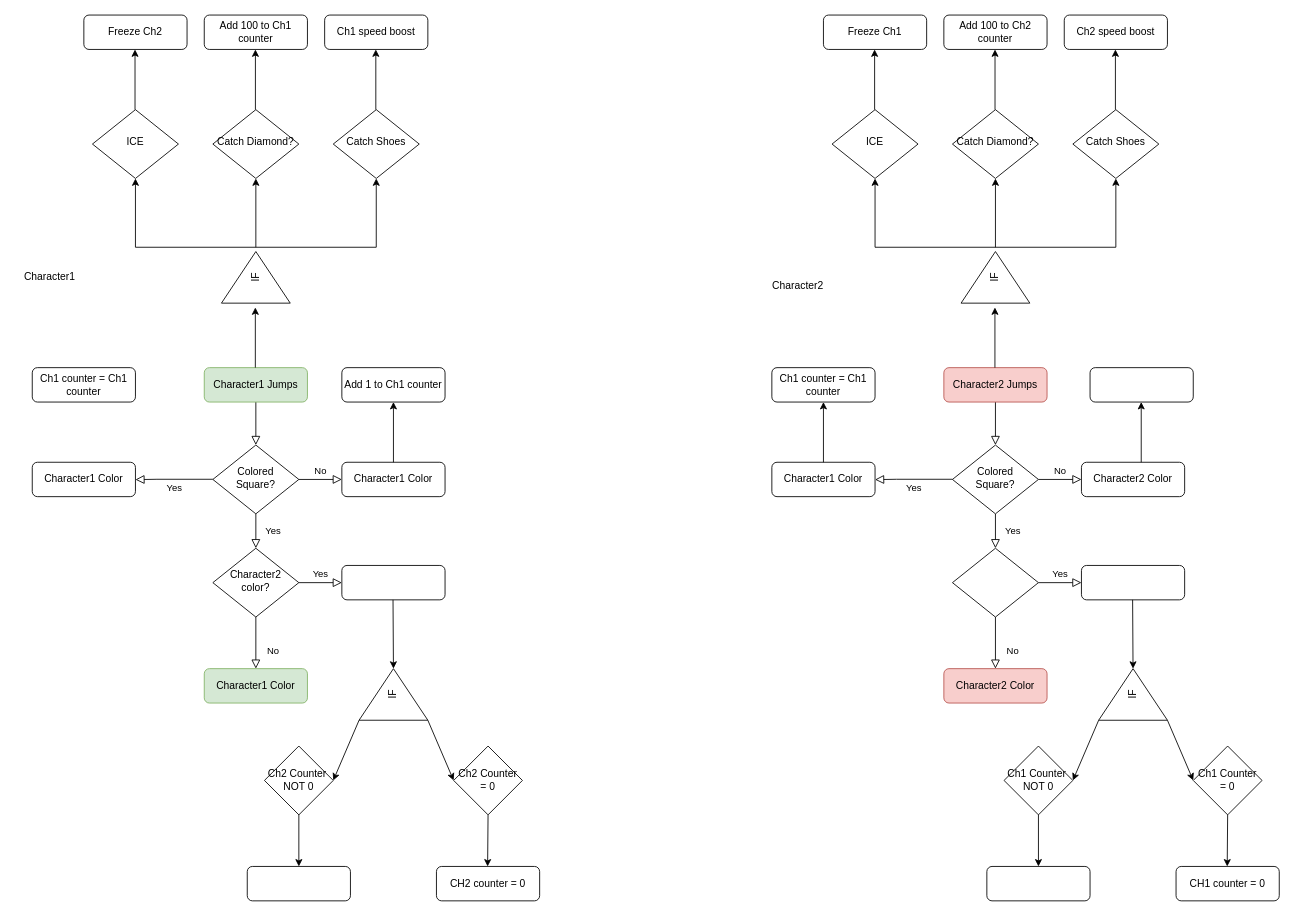
The diagram is 1294 pixels wide and 916 high, and some of its shapes have lost their labels. Here are the shapes that lost their labels. From the top down, the box of each, then its label:
(1089, 367, 1193, 402): Add 1 to Ch2 counter
(341, 565, 445, 600): Replace for character1 color
(952, 547, 1038, 617): Character1 color?
(1081, 565, 1185, 600): Replace for character2 color
(246, 866, 350, 901): Sub1 to Ch2 counter
(986, 866, 1090, 901): Sub1 to Ch1 counter
